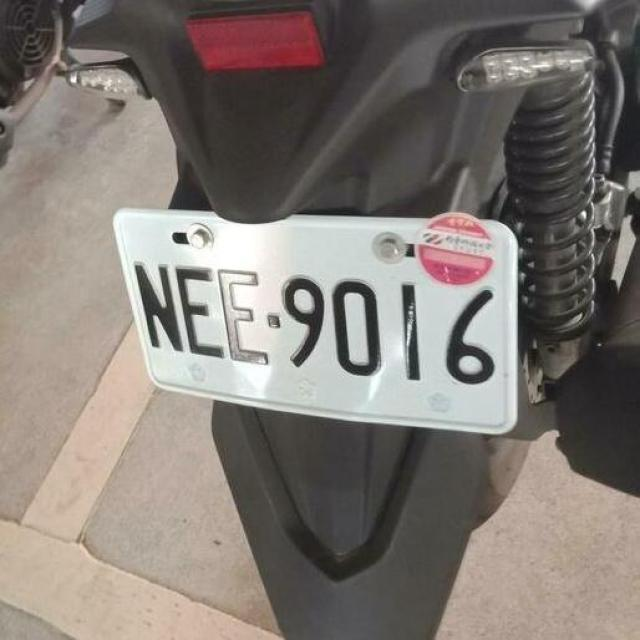W: (108, 192, 537, 450)
